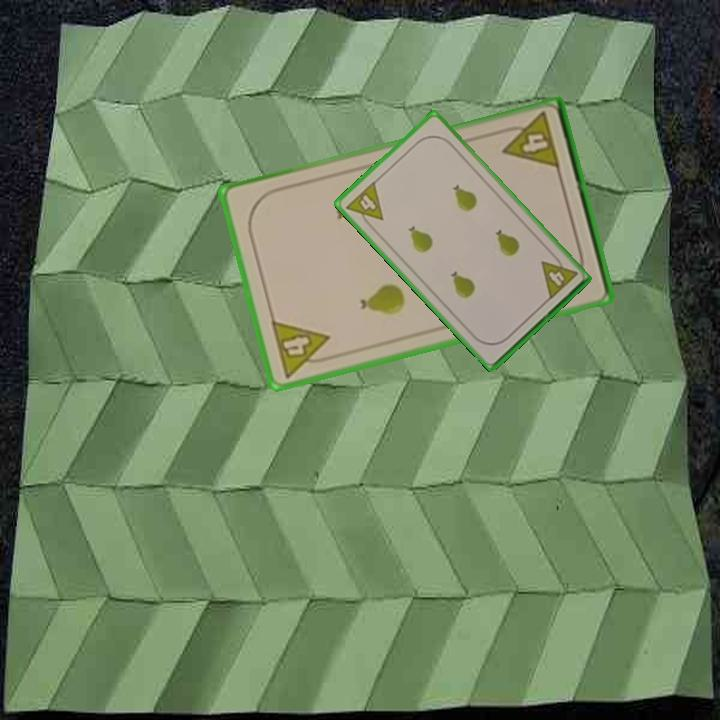4p: (267, 316, 337, 381), (495, 108, 563, 173), (342, 177, 386, 232), (537, 250, 580, 303)
